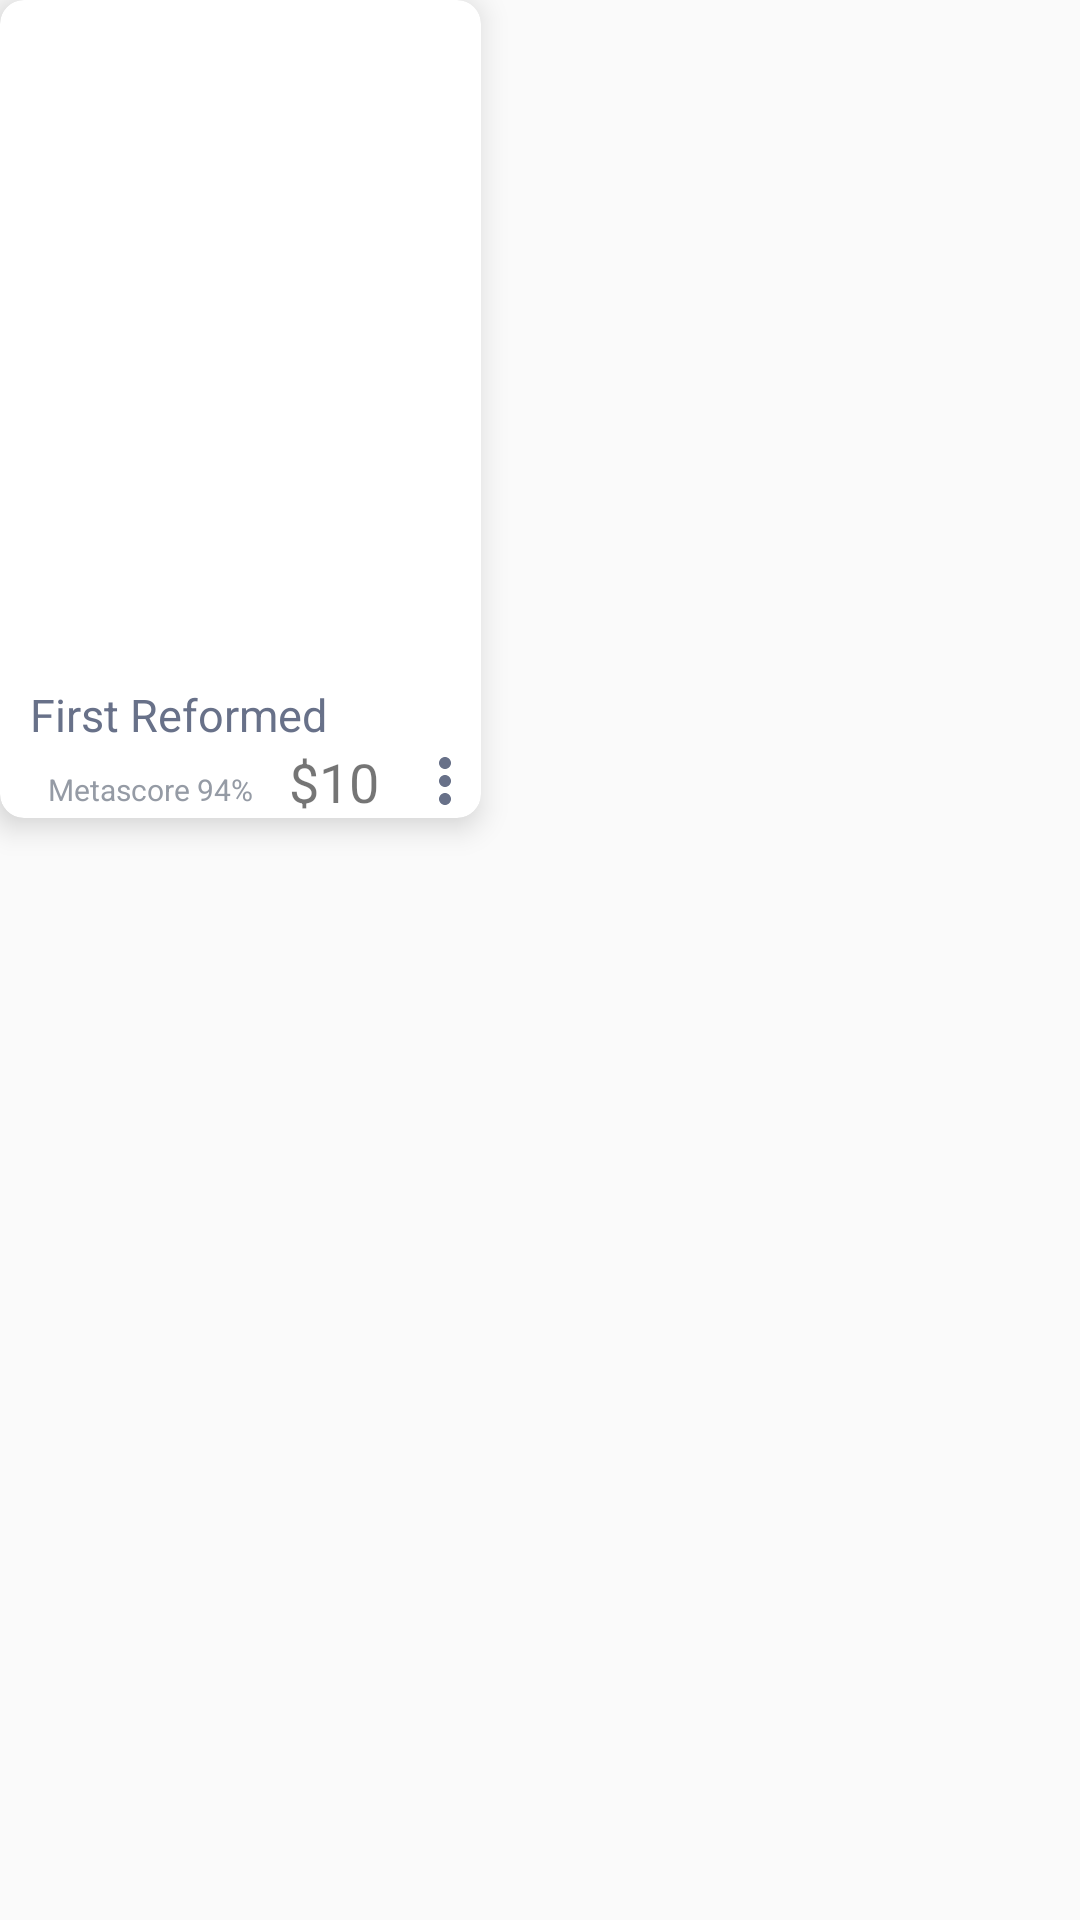

Point at icon controls on the screen. Image size 1080w x 1920h, points as (x=x, y=y).
more: (x=445, y=781)
